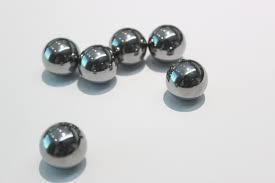steelball: (36, 119, 91, 174), (166, 58, 211, 104), (76, 43, 121, 88), (149, 20, 191, 65), (38, 37, 82, 77), (113, 26, 150, 68)
